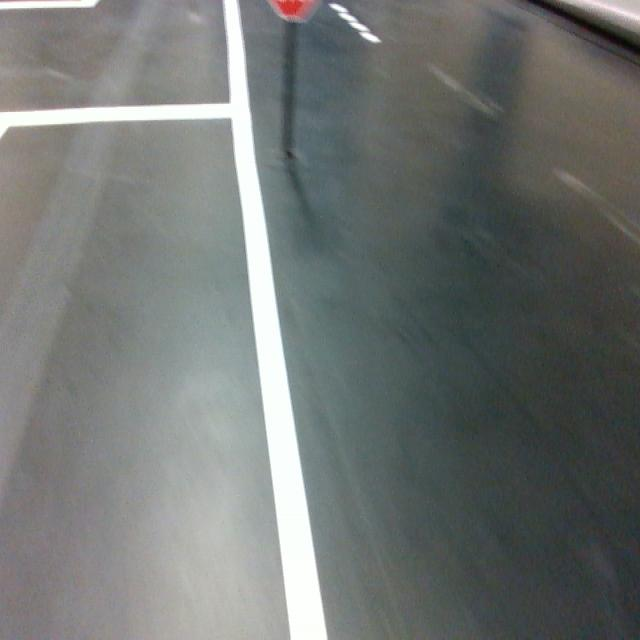stop-sign: (266, 0, 323, 24)
